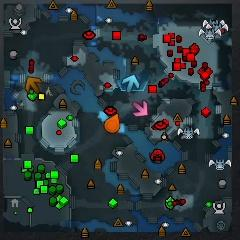p5: (105, 113, 120, 134)
x1: (132, 101, 148, 117)
x3: (123, 74, 139, 92)
x5: (25, 76, 42, 94)
